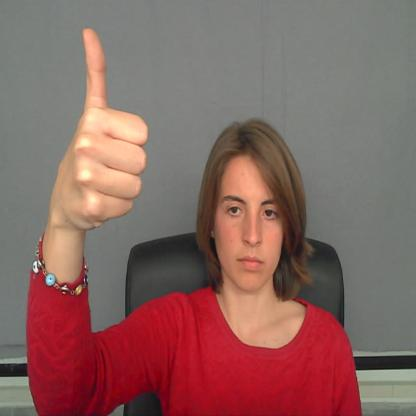thumbs-up: (48, 26, 155, 230)
